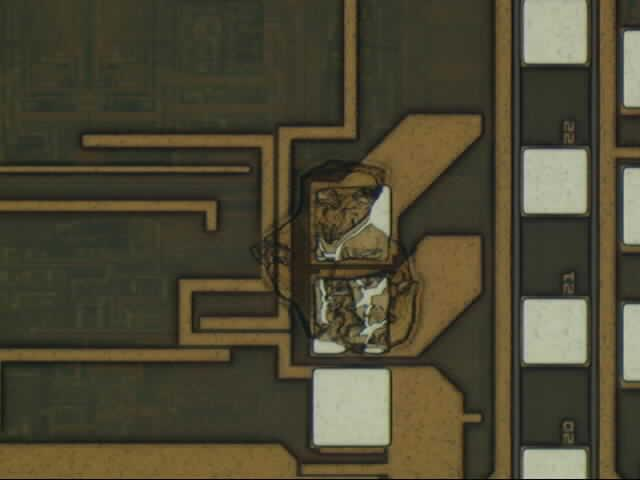PIQ PARTICLE: (250, 153, 428, 364)
